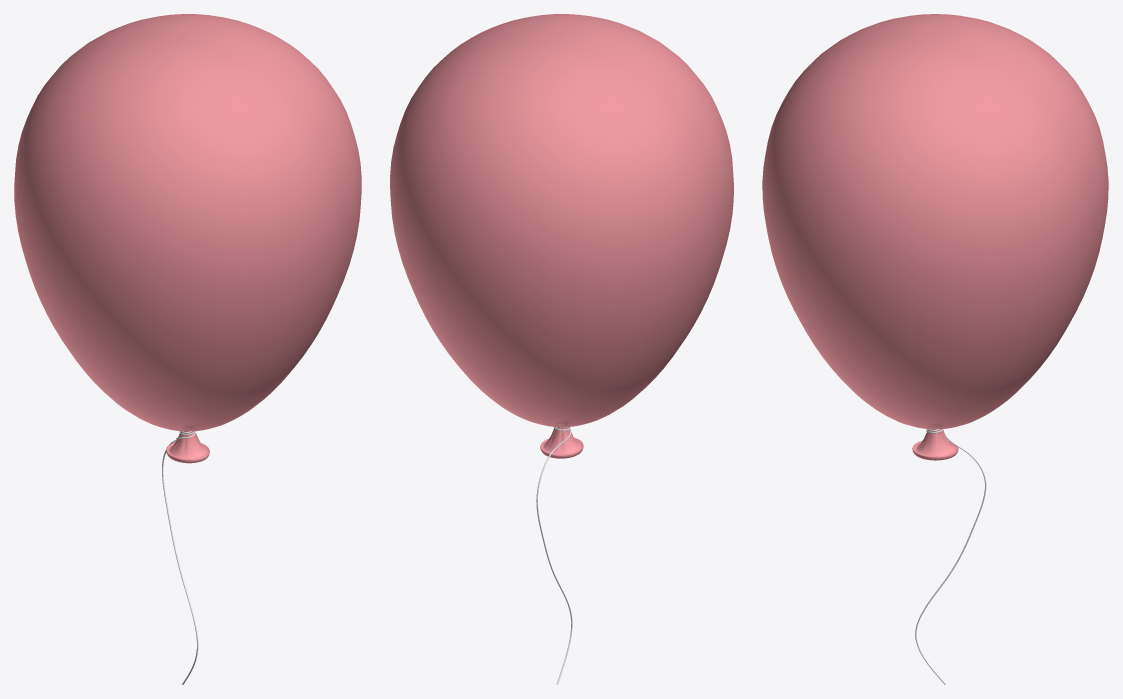
3 renders of one model, left to right at view 1: azimuth 30°, elevation 25°; view 2: azimuth 150°, elevation 25°; view 3: azimuth 270°, elevation 25°, orthographic.
Parts seen in each view (by area): view 1: Balloon, String1; view 2: Balloon, String1; view 3: Balloon, String1.
Part boxes in pixels (left/top/right/bottom): Balloon: left=14, top=14, right=361, bottom=463; String1: left=162, top=431, right=198, bottom=684; Balloon: left=390, top=14, right=733, bottom=458; String1: left=536, top=421, right=572, bottom=684; Balloon: left=762, top=14, right=1108, bottom=460; String1: left=915, top=424, right=986, bottom=684.
Bounding box in the file's own units: 0.8871 × 1.85 × 0.8871.
